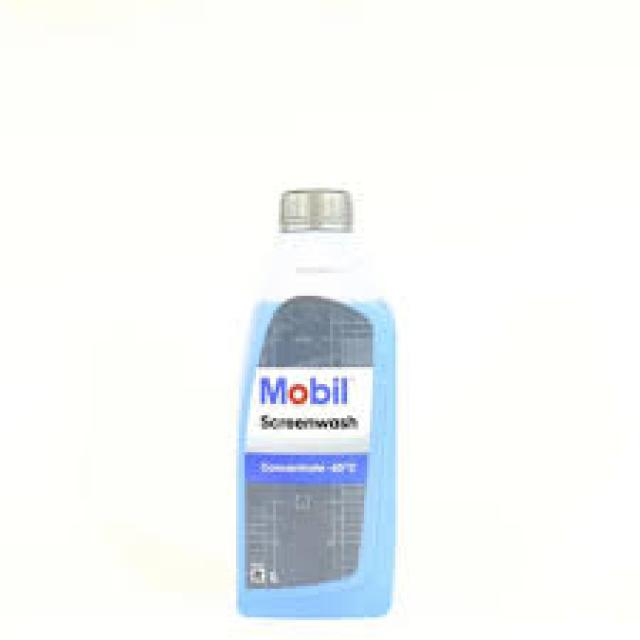winwinshield_washer: (242, 180, 396, 630)
